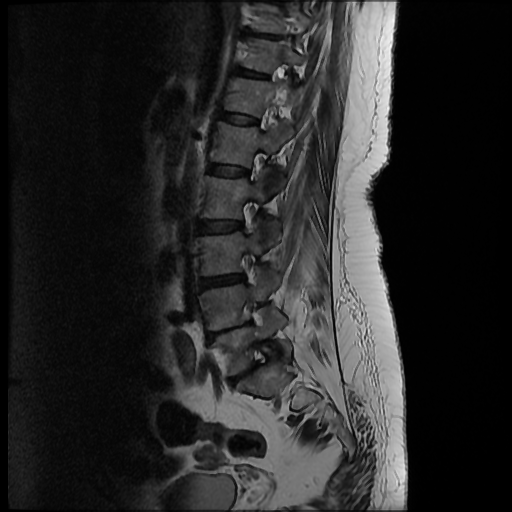RFS0: (230, 192, 264, 241), (231, 246, 266, 290), (239, 144, 272, 189)
